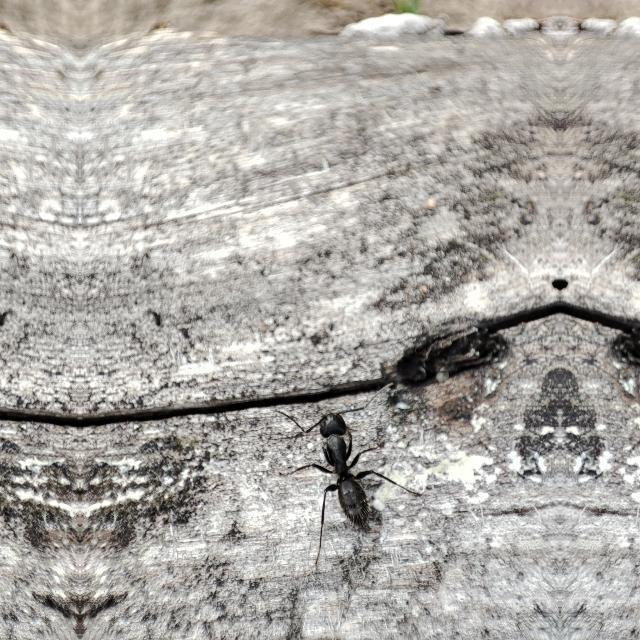Camponotus: (291, 384, 397, 530)
